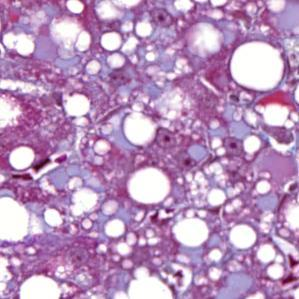steatosis: (231, 43, 290, 93)
